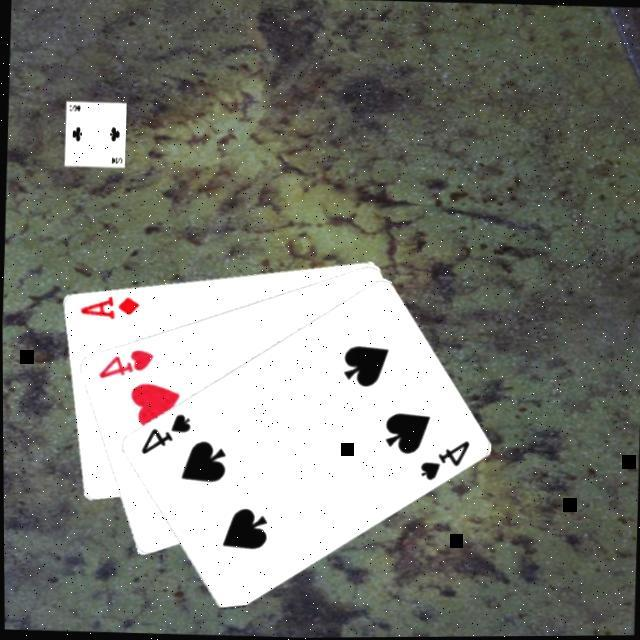4H: (92, 343, 155, 381)
4S: (134, 406, 192, 456), (414, 434, 471, 484)
AD: (75, 290, 140, 320)
